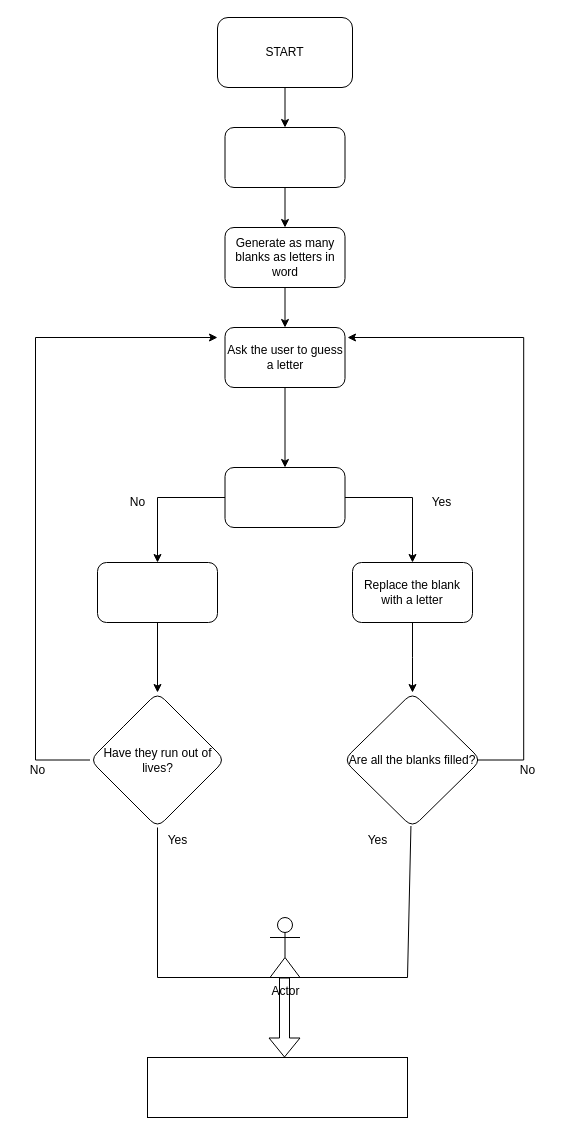
This 564x1135 diagram has some shape labels left out. The box of each missing label's shape, as (x1, y1, x2, y2) in pixels:
GAME OVER: (146, 1056, 408, 1118)
Generate a random word: (224, 126, 345, 188)
Is the guessed letter in the word?: (224, 466, 345, 528)
Lose a life: (96, 562, 218, 622)
